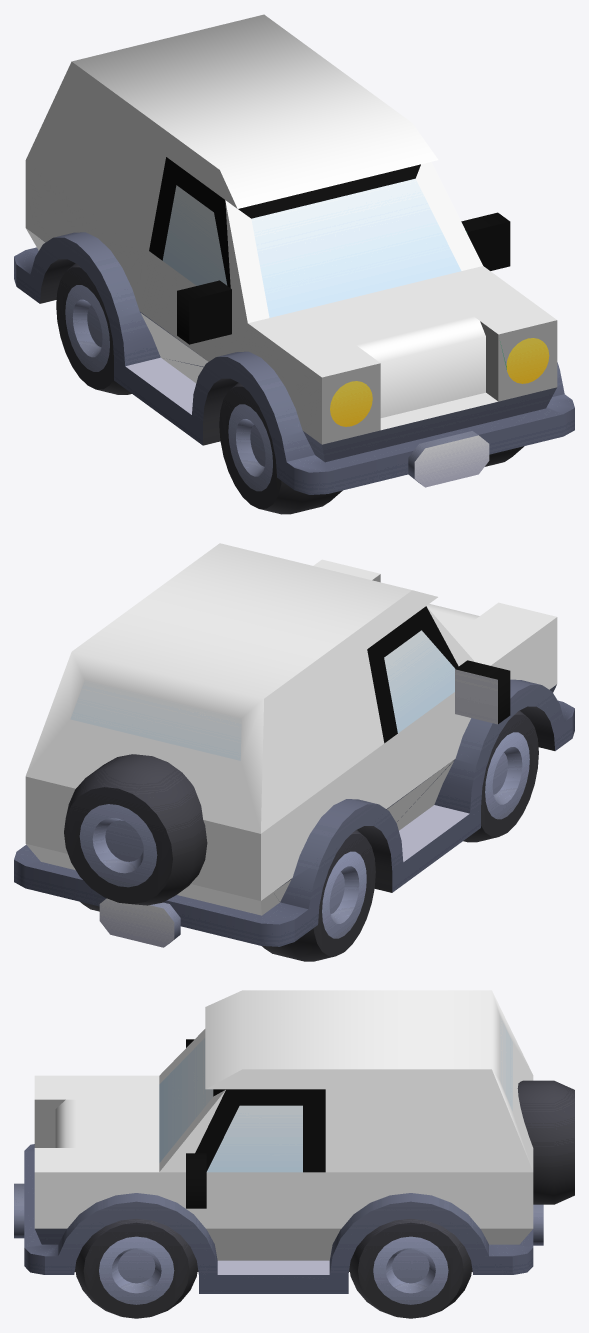
Rendered from suv.glb.
3 renders of one model, top to bottom at view 1: azimuth 30°, elevation 25°; view 2: azimuth 150°, elevation 25°; view 3: azimuth 270°, elevation 25°, orthographic. The views are drawn at different scales.
Visible parts, largest first — view 1: body, wheel-front-right, wheel-back-right; view 2: body, wheel-back, wheel-back-right, wheel-front-right; view 3: body, wheel-front-left, wheel-back-left, wheel-back.
Boxes of the visible parts, <box> form: body: <box>14,14,574,494</box>; wheel-front-right: <box>219,382,342,514</box>; wheel-back-right: <box>56,263,131,394</box>; body: <box>14,543,574,947</box>; wheel-back: <box>64,754,207,905</box>; wheel-back-right: <box>262,830,375,961</box>; wheel-front-right: <box>463,710,538,842</box>; body: <box>14,990,543,1293</box>; wheel-front-left: <box>75,1218,197,1318</box>; wheel-back-left: <box>349,1218,472,1318</box>; wheel-back: <box>517,1080,574,1204</box>.
Bounding box in the file's own units: 1.5 × 1.3 × 2.7.
Materials: 4 (1 with a texture image).
